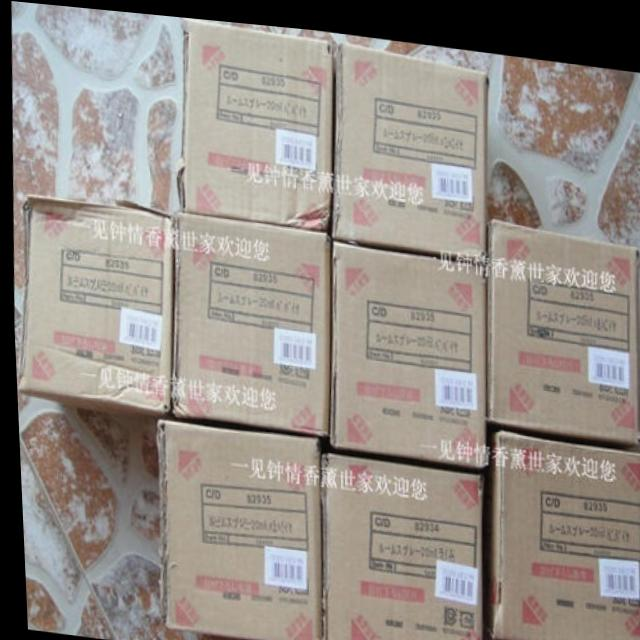box: (153, 416, 316, 640), (167, 209, 329, 429), (326, 234, 484, 459), (482, 420, 640, 640), (330, 34, 488, 252), (483, 209, 638, 431), (173, 14, 331, 222), (28, 194, 173, 413), (316, 448, 479, 640)
